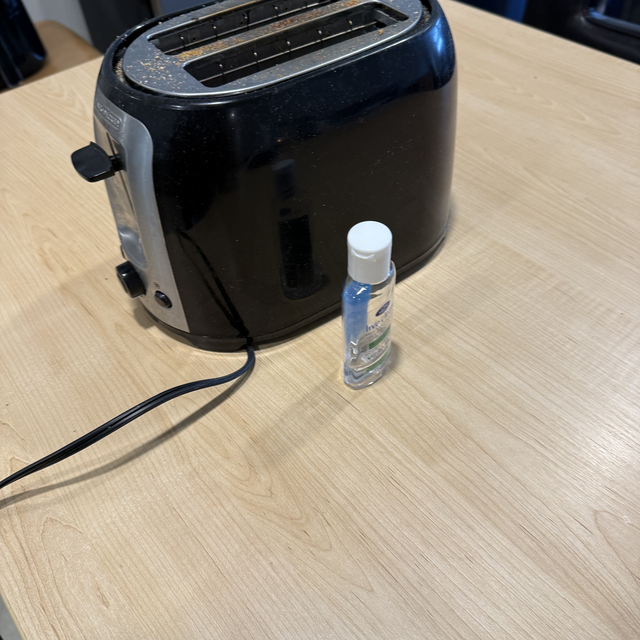Sanitizer: (342, 221, 394, 389)
Toaster: (96, 0, 470, 354)
